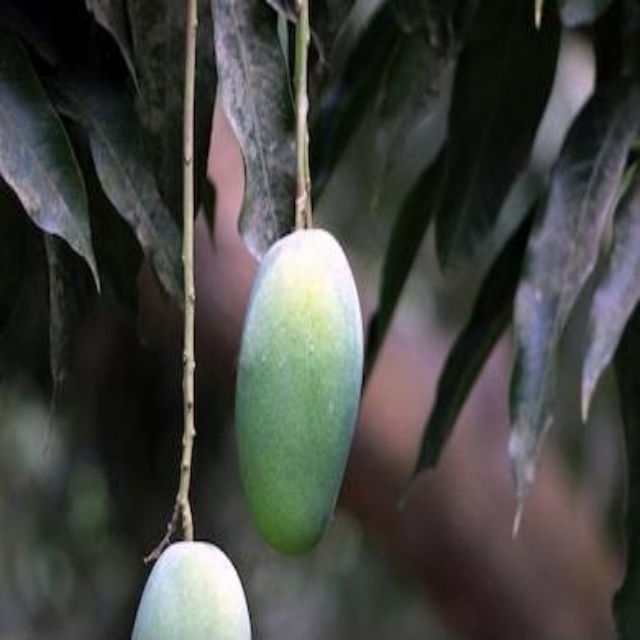mango: (221, 227, 378, 561), (131, 541, 254, 638)
